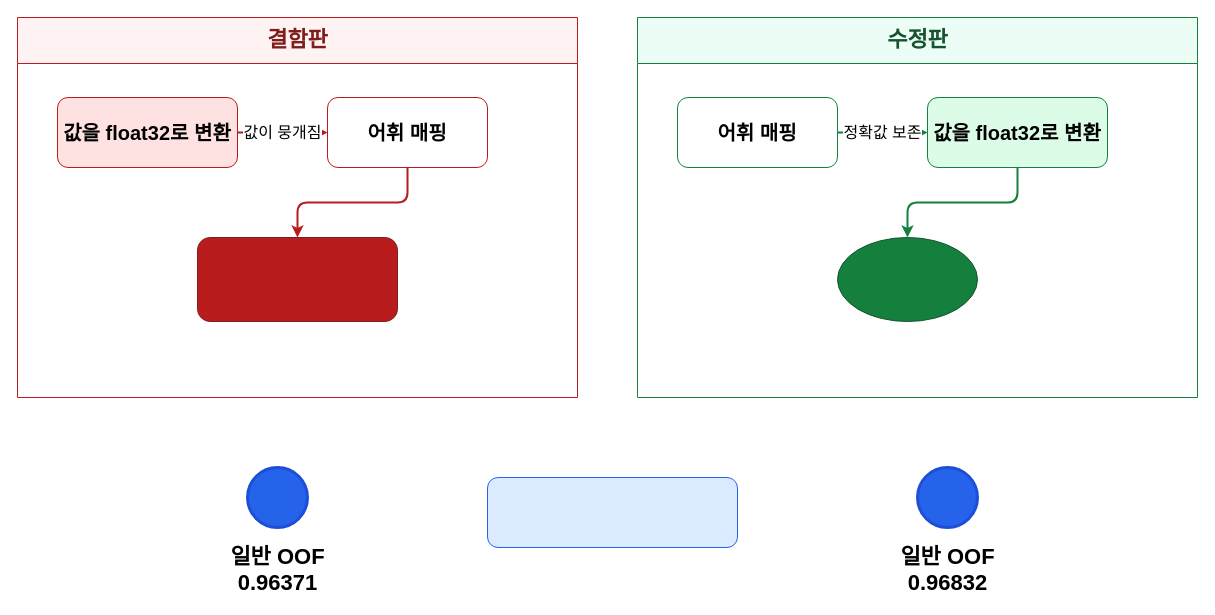
This 1215x615 diagram has some shape labels left out. The shapes that lost their labels are listed below. From the top down, each one's centre as x and y in pixels, then its label:
At point (297, 279): "미등록값 800,896".
At point (907, 279): "미등록값 23".
At point (612, 512): "AUC 차이 +0.00461".
